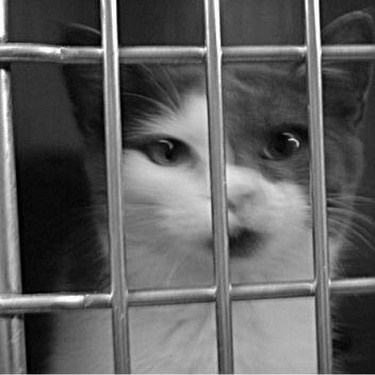cat: (51, 21, 371, 372)
